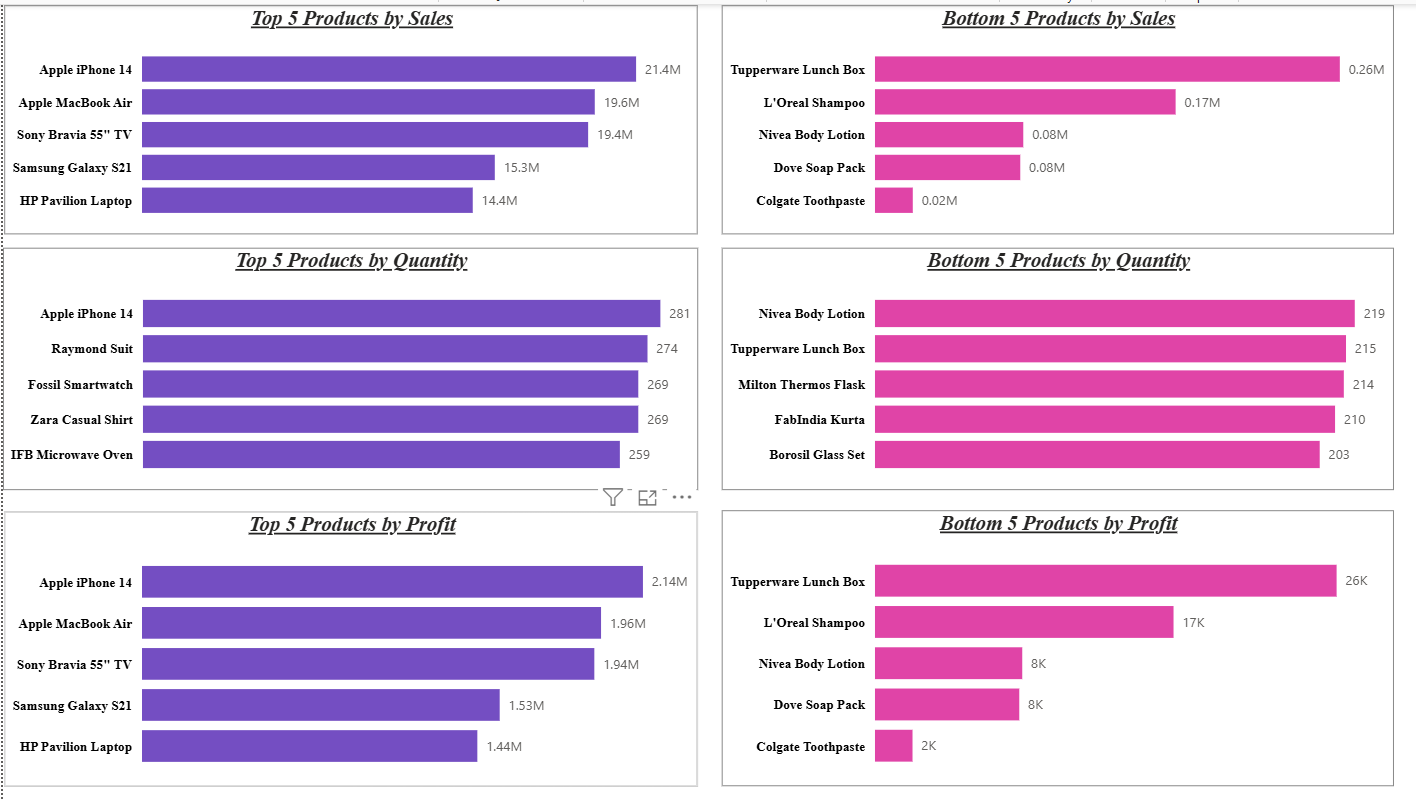

The page's visual inventory and layout, read from the dashboard file:
{"tool":"powerbi","page":{"name":"Top/Bottom 5 Analysis","canvas":[1280,720],"ordinal":1},"visuals":[{"type":"barChart","title":"Top 5 Products by Sales","fields":{"Category":["Dim Product.Product Name"],"Y":["Sum(Fact Table.Net Sales )"]},"box":[1.1,1.1,627.5,206.9],"z":0},{"type":"barChart","title":"Bottom 5 Products by Sales","fields":{"Category":["Dim Product.Product Name"],"Y":["Sum(Fact Table.Net Sales )"]},"box":[650.1,1.1,608.3,206.9],"z":1000},{"type":"barChart","title":"Top 5 Products by Quantity","fields":{"Category":["Dim Product.Product Name"],"Y":["Sum(Fact Table.Units Sold)"]},"box":[0,220.5,628.6,219.3],"z":2000},{"type":"barChart","title":"Bottom 5 Products by Quantity","fields":{"Category":["Dim Product.Product Name"],"Y":["Sum(Fact Table.Units Sold)"]},"box":[650.1,220.5,608.3,219.3],"z":3000},{"type":"barChart","title":"Top 5 Products by Profit","fields":{"Category":["Dim Product.Product Name"],"Y":["Sum(Fact Table.Profit )"]},"box":[1.1,459,627.5,248.7],"z":4000},{"type":"barChart","title":"Bottom 5 Products by Profit","fields":{"Category":["Dim Product.Product Name"],"Y":["Sum(Fact Table.Profit )"]},"box":[650.4,458.3,607.9,249.7],"z":5000}]}

Visuals, with their boxes in screenshot pixels (x1, y1, x2, y2), scaled from the page's 1280x720 canvas onto the 1416x799 screenshot:
"Top 5 Products by Sales" barChart: select_region(1, 1, 695, 231)
"Bottom 5 Products by Sales" barChart: select_region(719, 1, 1392, 231)
"Top 5 Products by Quantity" barChart: select_region(0, 245, 695, 488)
"Bottom 5 Products by Quantity" barChart: select_region(719, 245, 1392, 488)
"Top 5 Products by Profit" barChart: select_region(1, 509, 695, 785)
"Bottom 5 Products by Profit" barChart: select_region(720, 509, 1392, 786)
